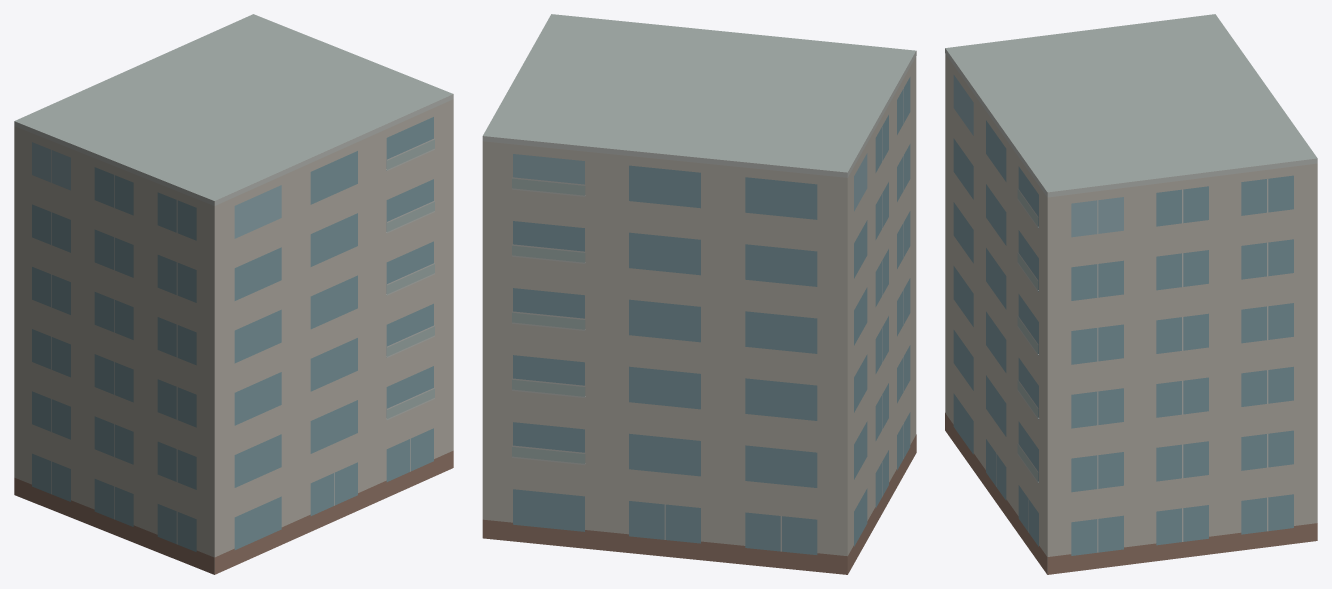
File: survey-upis-33006125.glb
3 renders of one model, left to right at view 1: azimuth 30°, elevation 25°; view 2: azimuth 150°, elevation 25°; view 3: azimuth 270°, elevation 25°, orthographic. The views are drawn at different scales.
Parts seen in each view (by area): view 1: survey-upis-33006125.tmp; view 2: survey-upis-33006125.tmp; view 3: survey-upis-33006125.tmp.
Part boxes in pixels (box(x1,y1,x2,y2)): survey-upis-33006125.tmp: box(14, 14, 453, 574); survey-upis-33006125.tmp: box(482, 14, 916, 574); survey-upis-33006125.tmp: box(945, 14, 1317, 574).
Size of the model in its own units: 18.32 by 18.3 by 16.17.
